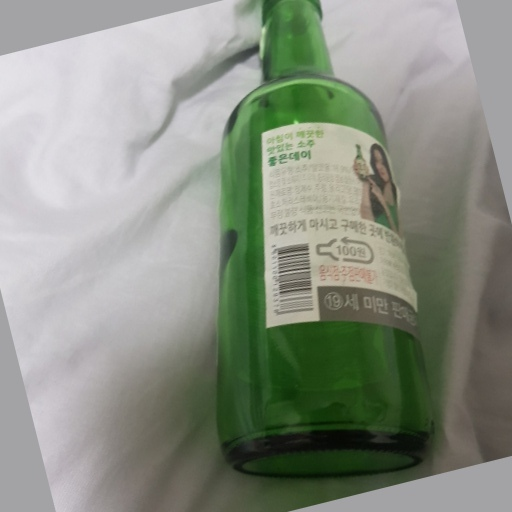Glass_0: (217, 1, 437, 479)
